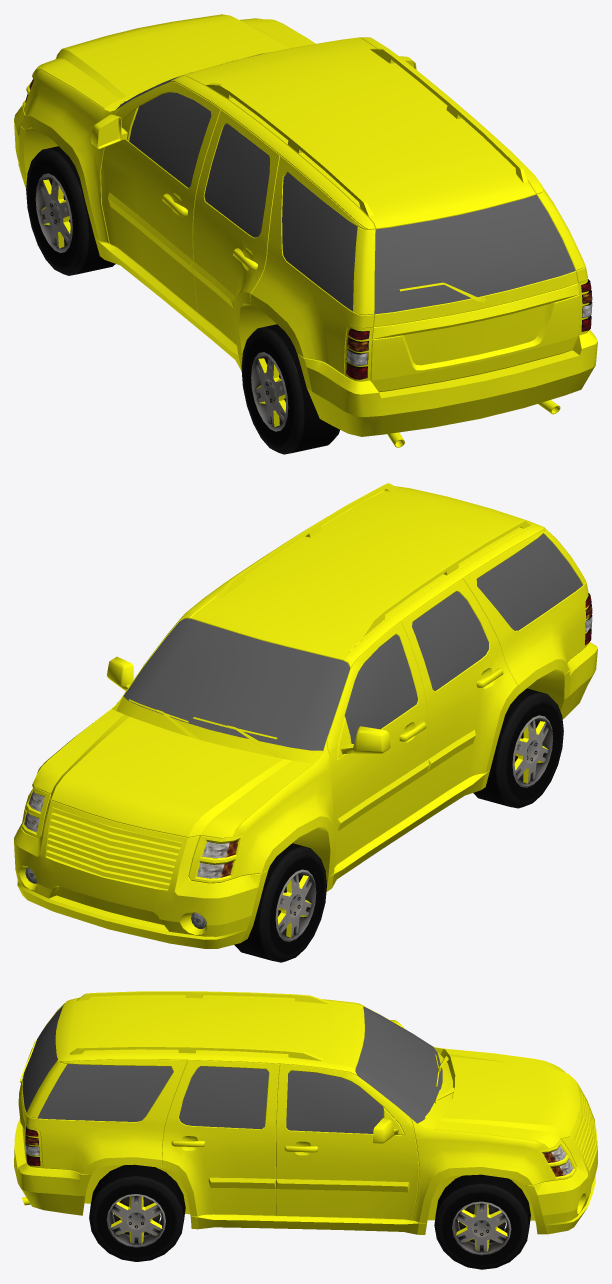
File: pack_suv.glb
3 views of the same model, one above another, from view 1: azimuth 30°, elevation 25°; view 2: azimuth 150°, elevation 25°; view 3: azimuth 270°, elevation 25° (orthographic). The views are drawn at different scales.
Parts seen in each view (by area): view 1: SUV Body, Wheel_E001.001, Wheel_E.001; view 2: SUV Body, Wheel_E001.001, Wheel_E.001; view 3: SUV Body, Wheel_E003.001, Wheel_E002.001.
Boxes of the visible parts, left/top/right/bottom form: SUV Body: left=14, top=14, right=597, bottom=447; Wheel_E001.001: left=241, top=324, right=339, bottom=454; Wheel_E.001: left=26, top=146, right=115, bottom=275; SUV Body: left=14, top=483, right=597, bottom=948; Wheel_E001.001: left=473, top=688, right=563, bottom=808; Wheel_E.001: left=234, top=843, right=326, bottom=962; SUV Body: left=14, top=991, right=597, bottom=1234; Wheel_E003.001: left=89, top=1164, right=185, bottom=1261; Wheel_E002.001: left=434, top=1174, right=530, bottom=1269.
Size of the model in its own units: 2.33 by 1.95 by 5.19.
4 materials, 2 textured.
